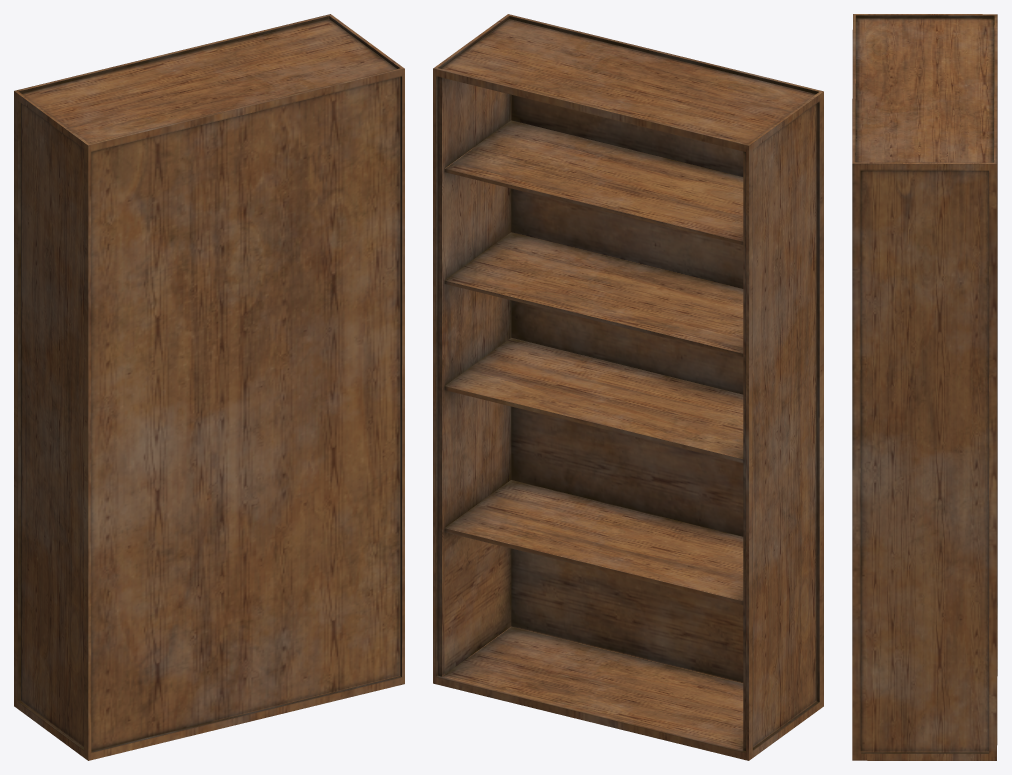
File: cupboard.obj
3 renders of one model, left to right at view 1: azimuth 30°, elevation 25°; view 2: azimuth 150°, elevation 25°; view 3: azimuth 270°, elevation 25°, orthographic. The views are drawn at different scales.
Visible parts, largest first — view 1: Box001_Untitled.001; view 2: Box001_Untitled.001; view 3: Box001_Untitled.001.
Boxes of the visible parts, bbox=[...] form: Box001_Untitled.001: bbox=[14, 14, 404, 760]; Box001_Untitled.001: bbox=[433, 14, 823, 760]; Box001_Untitled.001: bbox=[852, 14, 997, 760].
Bounding box in the file's own units: 0.829 × 1.54 × 0.3403.
